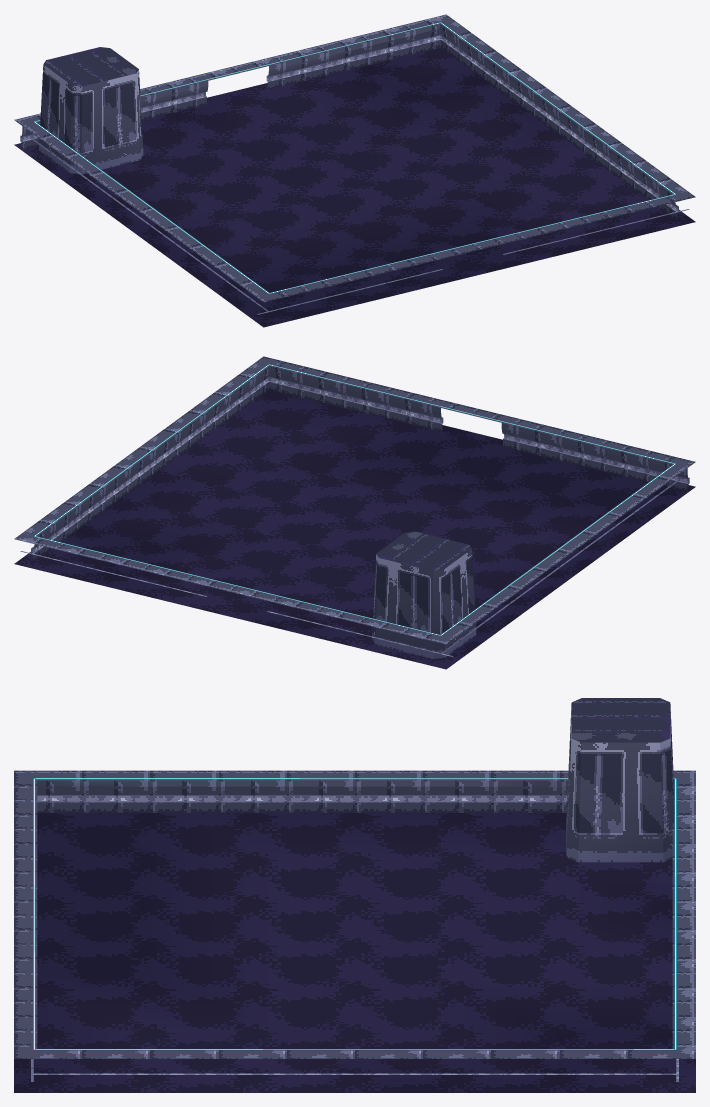
Rendered from cyroom.rooftop__arena.glb.
The picture shows the model from 3 angles, top to bottom: view 1: azimuth 30°, elevation 25°; view 2: azimuth 150°, elevation 25°; view 3: azimuth 270°, elevation 25°; orthographic projection. The views are drawn at different scales.
Parts seen in each view (by area): view 1: kit_shell_floor, kit_shell_walls, kit_trim, kit_card_lights; view 2: kit_shell_floor, kit_shell_walls, kit_trim, kit_card_lights; view 3: kit_shell_floor, kit_shell_walls, kit_trim, kit_card_lights.
Boxes of the visible parts, x1,y1,x2,y2 form: kit_shell_floor: (14, 47, 695, 327); kit_shell_walls: (14, 14, 695, 314); kit_trim: (39, 47, 143, 174); kit_card_lights: (34, 22, 675, 293); kit_shell_floor: (14, 389, 695, 669); kit_shell_walls: (14, 356, 695, 656); kit_trim: (371, 531, 476, 658); kit_card_lights: (34, 364, 675, 635); kit_shell_floor: (14, 813, 695, 1092); kit_shell_walls: (14, 770, 695, 1081); kit_trim: (566, 698, 673, 862); kit_card_lights: (33, 778, 676, 1050).
Size of the model in its own units: 20 by 3.8 by 20.
Materials: 6 (6 with a texture image).
